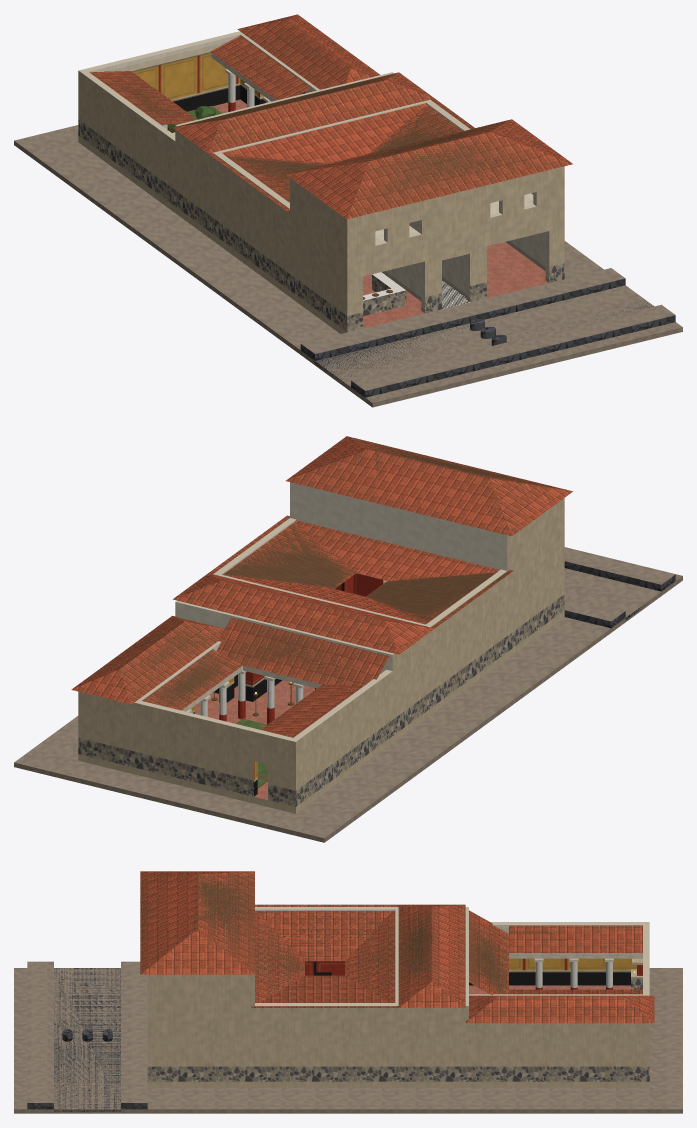
The model's file is pompeii_house.glb.
The picture shows the model from 3 angles, top to bottom: view 1: azimuth 30°, elevation 25°; view 2: azimuth 150°, elevation 25°; view 3: azimuth 270°, elevation 25°; orthographic projection. The views are drawn at different scales.
Parts seen in each view (by area): view 1: Walls, Street, Roof_front, Roof_atrium, Roof_tablinum, Floors, Roof_portico, Roof_triclinium, Peristyle; view 2: Walls, Street, Roof_atrium, Roof_front, Roof_portico, Roof_tablinum, Roof_triclinium, Floors, Peristyle; view 3: Walls, Street, Roof_atrium, Roof_front, Roof_portico, Roof_tablinum, Roof_triclinium, Floors, Peristyle.
Part boxes in pixels (bbox=[...]): Walls: bbox=[78, 31, 564, 332]; Street: bbox=[14, 125, 682, 407]; Roof_front: bbox=[285, 119, 572, 219]; Roof_atrium: bbox=[208, 98, 474, 211]; Roof_tablinum: bbox=[173, 72, 434, 153]; Floors: bbox=[78, 99, 548, 333]; Roof_portico: bbox=[89, 35, 311, 131]; Roof_triclinium: bbox=[237, 14, 379, 89]; Peristyle: bbox=[161, 53, 276, 134]; Walls: bbox=[78, 482, 564, 806]; Street: bbox=[14, 547, 682, 842]; Roof_atrium: bbox=[208, 515, 513, 628]; Roof_front: bbox=[286, 436, 572, 536]; Roof_portico: bbox=[142, 617, 389, 737]; Roof_tablinum: bbox=[173, 573, 434, 654]; Roof_triclinium: bbox=[71, 615, 224, 704]; Floors: bbox=[78, 610, 564, 813]; Peristyle: bbox=[181, 665, 321, 788]; Walls: bbox=[147, 907, 649, 1081]; Street: bbox=[14, 961, 682, 1113]; Roof_atrium: bbox=[251, 904, 398, 1007]; Roof_front: bbox=[140, 871, 254, 974]; Roof_portico: bbox=[469, 910, 642, 995]; Roof_tablinum: bbox=[398, 904, 465, 1007]; Roof_triclinium: bbox=[465, 995, 654, 1023]; Floors: bbox=[147, 985, 649, 1087]; Peristyle: bbox=[509, 953, 642, 989].
Size of the model in its own units: 20 by 9.3 by 40.
Materials: 19 (12 with a texture image).
